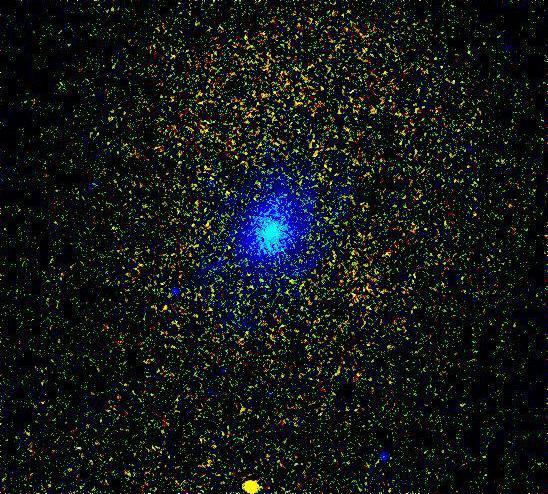star: (235, 470, 265, 494)
